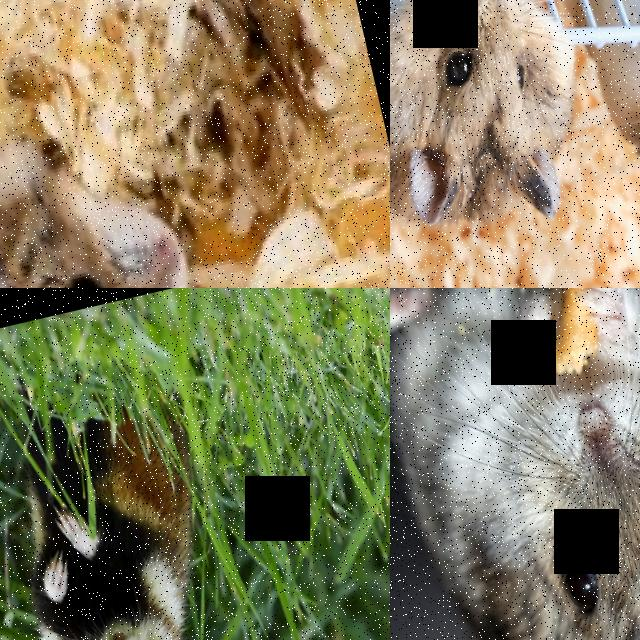hamster: (390, 288, 640, 640), (0, 384, 273, 640), (390, 0, 606, 266), (0, 115, 241, 288), (547, 0, 640, 276)
